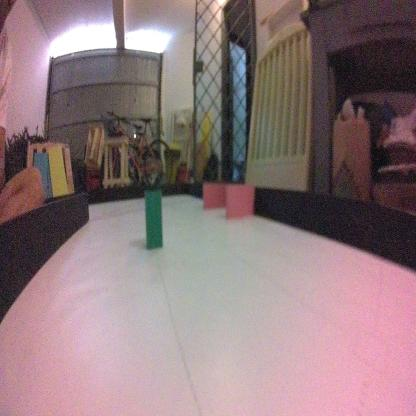green: (142, 189, 165, 253)
magenta: (225, 183, 254, 224), (200, 177, 229, 210)
